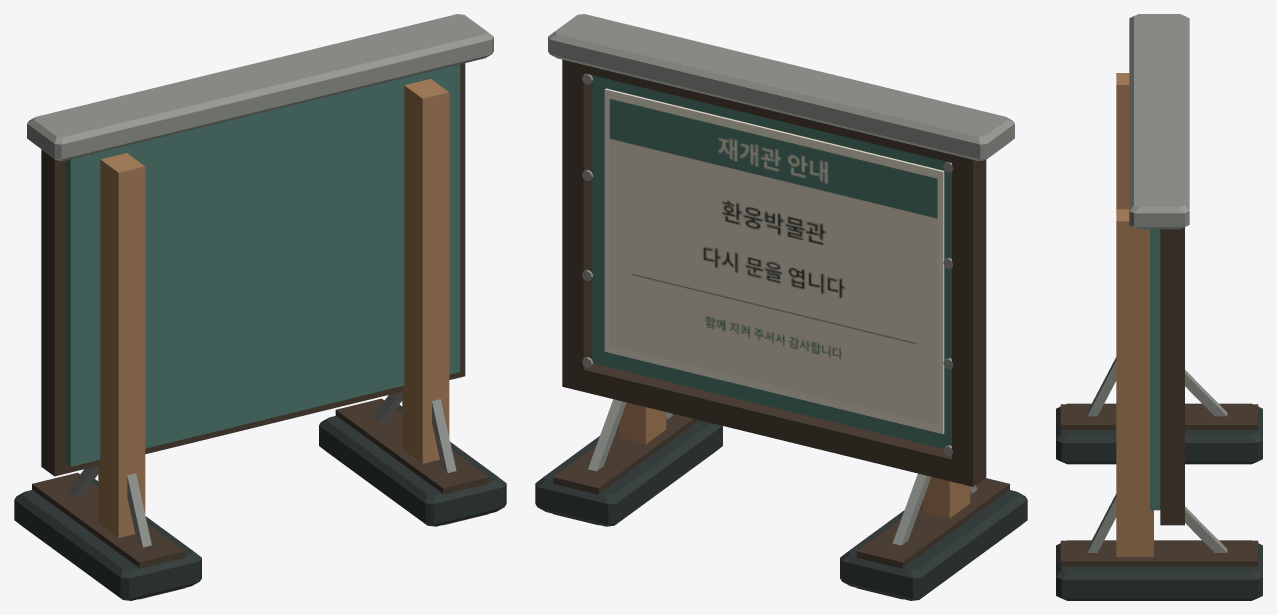
Rendered from D01_Notice_After.fbx.
3 views of the same model, side by side, from view 1: azimuth 30°, elevation 25°; view 2: azimuth 150°, elevation 25°; view 3: azimuth 270°, elevation 25° (orthographic). The views are drawn at different scales.
Visible parts, largest first — view 1: Board_Structure; view 2: Board_Structure, Front_Notice; view 3: Board_Structure.
Part boxes in pixels (box(x1,y1,x2,y2)): Board_Structure: box(14, 14, 506, 600); Board_Structure: box(535, 14, 1027, 600); Front_Notice: box(604, 88, 944, 433); Board_Structure: box(1056, 14, 1262, 600).
Size of the model in its own units: 2.48 by 2.38 by 1.1.
7 materials, 1 textured.
